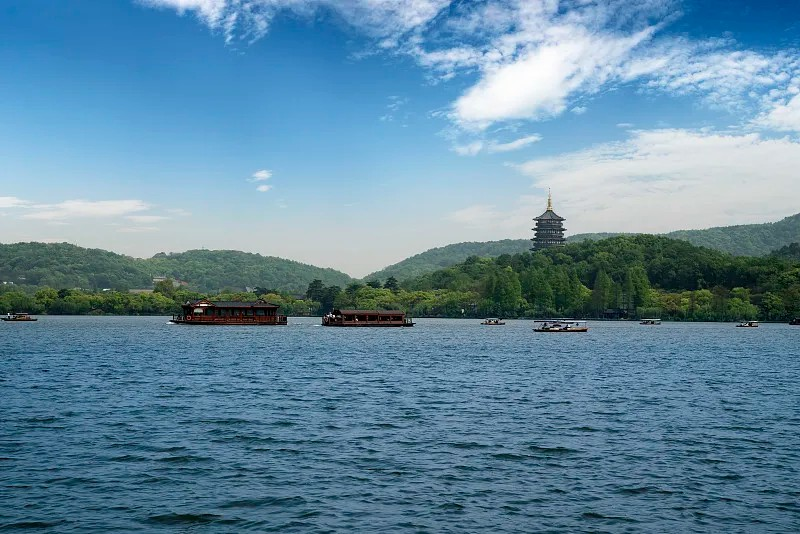Leifeng: (530, 185, 567, 252)
